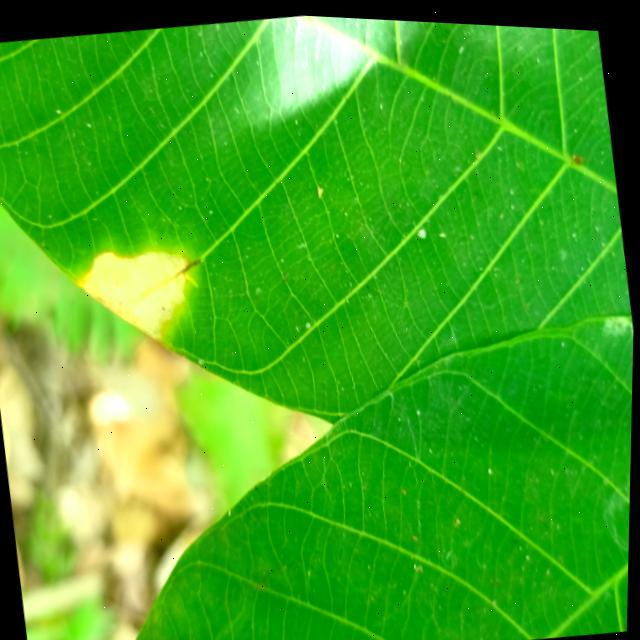Leaf-Blight: (76, 236, 199, 349)
